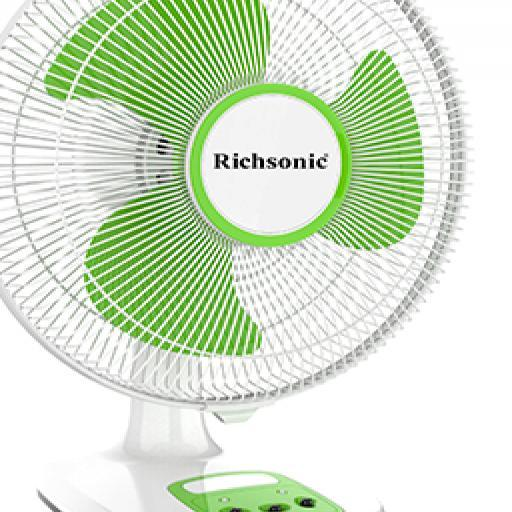Fan: (0, 0, 466, 413)
